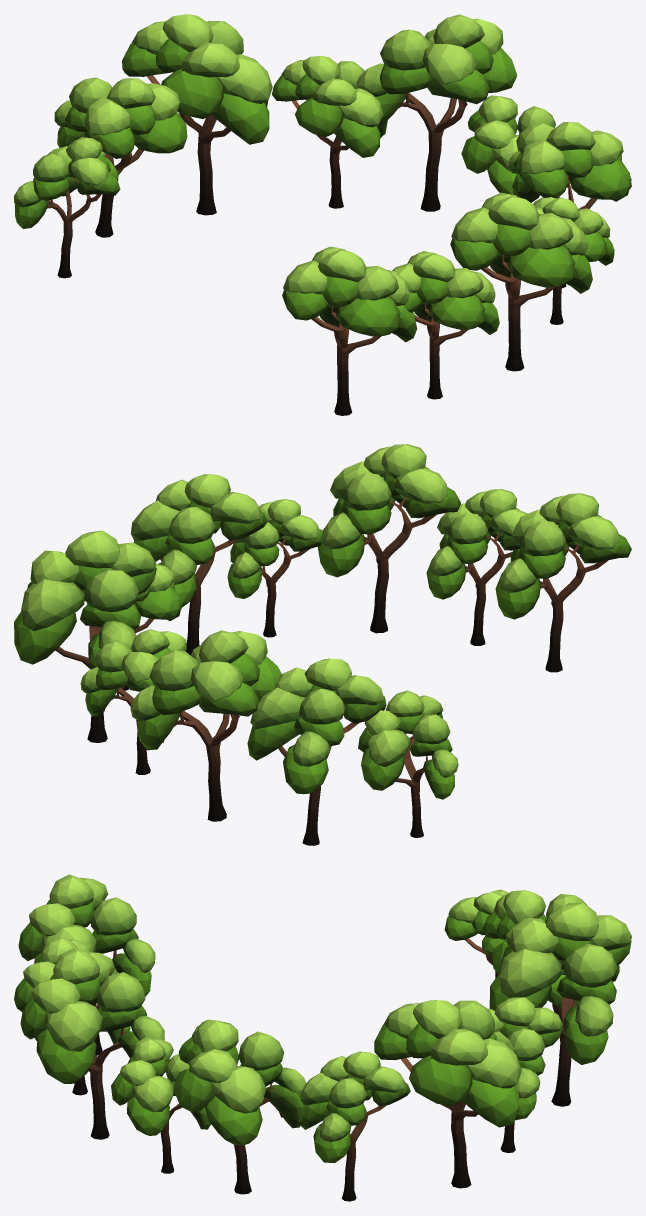
The model's file is all trees.fbx.
3 views of the same model, one above another, from view 1: azimuth 30°, elevation 25°; view 2: azimuth 150°, elevation 25°; view 3: azimuth 270°, elevation 25° (orthographic). The views are drawn at different scales.
Parts seen in each view (by area): view 1: big tree.011; view 2: big tree.011; view 3: big tree.011.
Part boxes in pixels (x1,y1,x2,y2): big tree.011: (14, 14, 631, 415); big tree.011: (14, 444, 631, 845); big tree.011: (14, 874, 631, 1201).
Size of the model in its own units: 72.11 by 29.02 by 84.43.
Materials: 1 (1 with a texture image).
